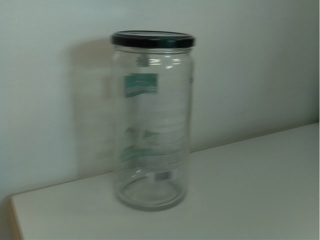pote cristal: (107, 28, 199, 214)
